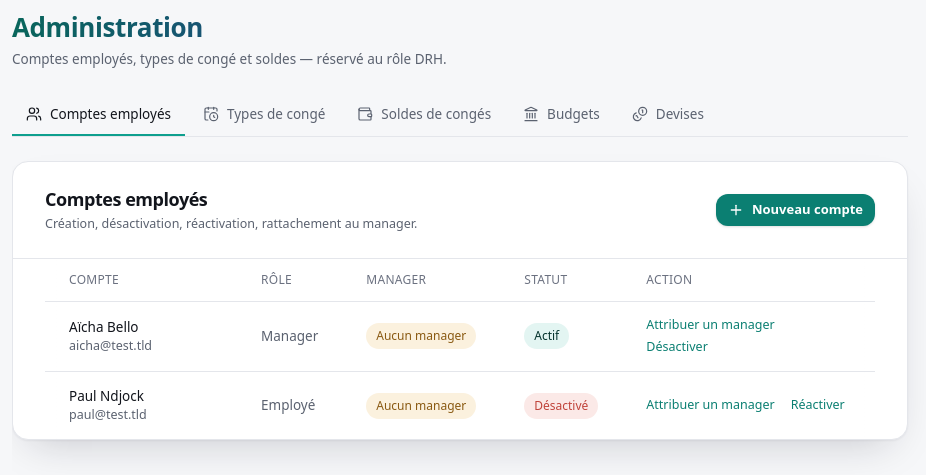
AdminPage — onglet Types de congé › charge les types en incluant les inactifs (parametre true)
Check: the text "Aïcha Bello" is shown, box [69,318,138,336]
Click the button "Types de congé" at (264, 115), box [189,94,339,136]
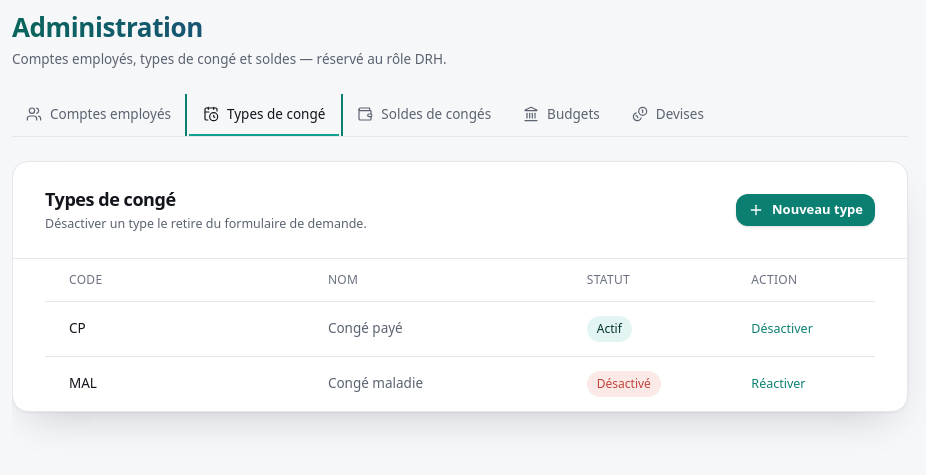
Check: the text "Congé payé" is shown, box [304,301,563,356]
Check: the text "Congé maladie" is shown, box [304,356,563,410]
